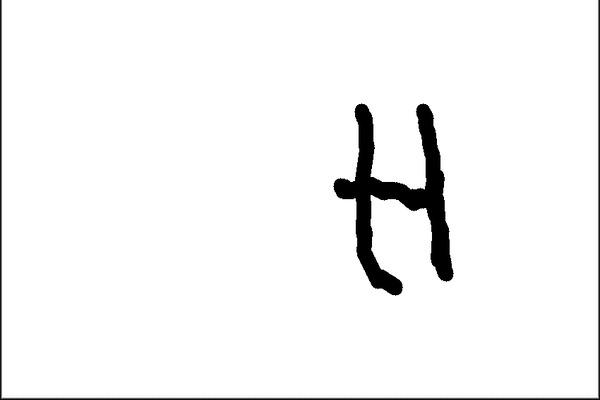H: (328, 92, 480, 300)
